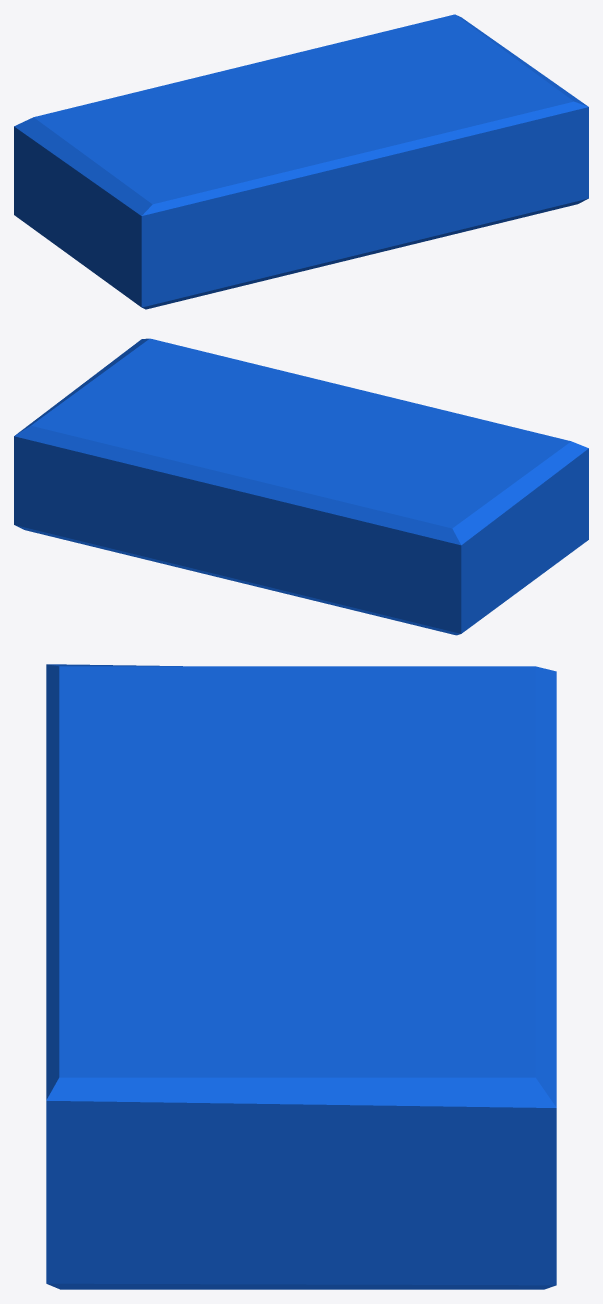
File: airmattress.glb
The picture shows the model from 3 angles, top to bottom: view 1: azimuth 30°, elevation 25°; view 2: azimuth 150°, elevation 25°; view 3: azimuth 270°, elevation 25°; orthographic projection. The views are drawn at different scales.
Visible parts, largest first — view 1: air mattress; view 2: air mattress; view 3: air mattress.
Boxes of the visible parts, <box> form: air mattress: <box>14,14,588,309</box>; air mattress: <box>14,338,588,635</box>; air mattress: <box>46,664,556,1289</box>.
Bounding box in the file's own units: 5.31 × 1.18 × 2.63.
